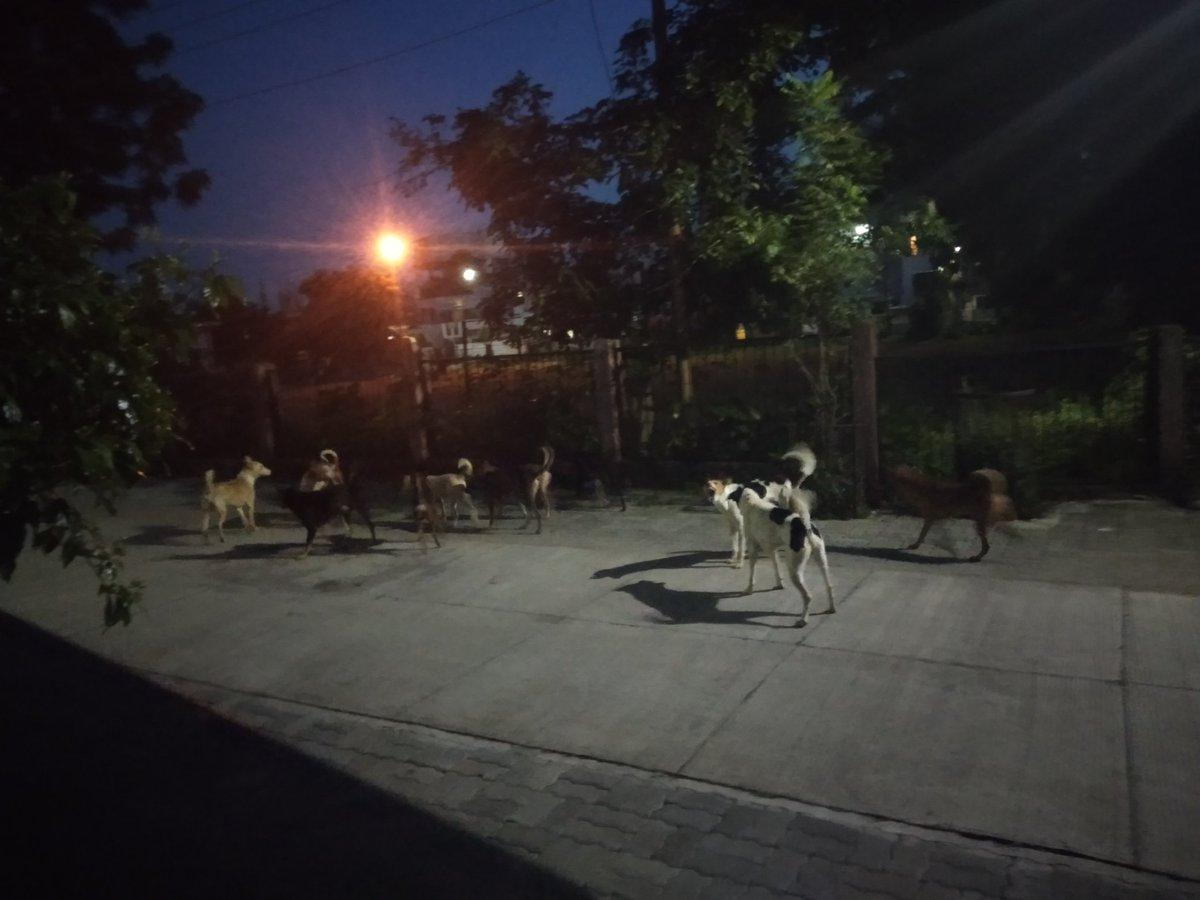dog_aggressive: (860, 436, 1036, 566), (736, 482, 844, 624), (704, 442, 824, 568)
normal_dogs: (282, 450, 378, 566), (478, 435, 568, 522), (190, 450, 277, 534), (394, 444, 479, 510), (298, 430, 347, 504)
